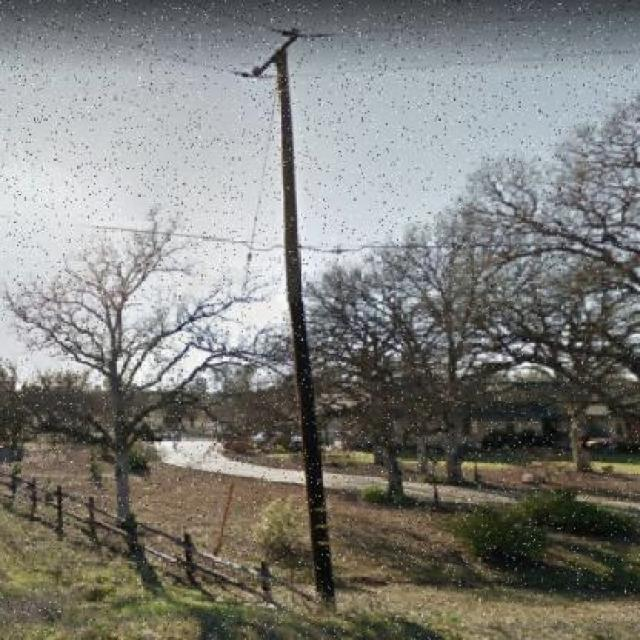crossarm: (238, 32, 295, 80)
pole: (275, 46, 337, 606)
